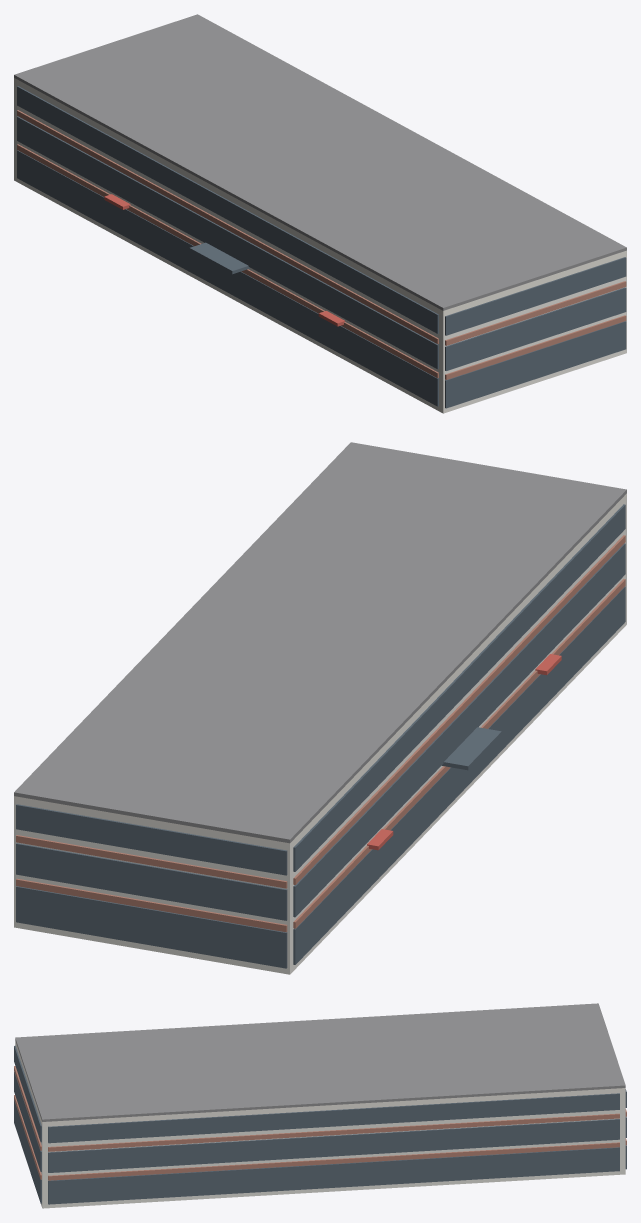
Rendered from s41_gis_248126_820567_detail.glb.
The picture shows the model from 3 angles, top to bottom: view 1: azimuth 30°, elevation 25°; view 2: azimuth 150°, elevation 25°; view 3: azimuth 270°, elevation 25°; orthographic projection. The views are drawn at different scales.
Parts seen in each view (by area): view 1: roofcap, band_1_1.5, band_1_4.3, mass, band_1_6.9, band_0_1.5, band_0_4.3, cornice, band_0_6.9, band_1_5.55, band_1_2.85, band_0_2.85 (+2 smaller); view 2: roofcap, mass, band_1_1.5, band_1_4.3, band_2_1.5, band_1_6.9, band_2_4.3, band_2_6.9, cornice, band_1_5.55, band_1_2.85, band_2_2.85 (+2 smaller); view 3: roofcap, band_3_1.5, band_3_4.3, band_3_6.9, mass, cornice, band_3_2.85, band_3_5.55, band_0_1.5, band_0_4.3, band_0_6.9.
Boxes of the visible parts, x1,y1,x2,y2 form: roofcap: (14, 14, 626, 310); band_1_1.5: (17, 150, 438, 406); band_1_4.3: (17, 116, 438, 369); mass: (14, 79, 626, 413); band_1_6.9: (17, 86, 438, 333); band_0_1.5: (445, 321, 626, 408); band_0_4.3: (445, 287, 626, 370); cornice: (14, 78, 626, 316); band_0_6.9: (445, 257, 626, 335); band_1_5.55: (17, 110, 438, 343); band_1_2.85: (17, 144, 438, 378); band_0_2.85: (445, 315, 626, 379); roofcap: (14, 442, 626, 843); mass: (14, 495, 626, 974); band_1_1.5: (293, 586, 625, 964); band_1_4.3: (293, 543, 625, 917); band_2_1.5: (16, 886, 287, 968); band_1_6.9: (293, 504, 625, 871); band_2_4.3: (16, 843, 287, 920); band_2_6.9: (16, 804, 287, 875); cornice: (14, 493, 626, 850); band_1_5.55: (293, 535, 625, 884); band_1_2.85: (293, 579, 625, 928); band_2_2.85: (16, 878, 287, 932); roofcap: (15, 1003, 625, 1121); band_3_1.5: (48, 1147, 619, 1204); band_3_4.3: (48, 1119, 619, 1172); band_3_6.9: (48, 1093, 619, 1143); mass: (15, 1043, 625, 1208); cornice: (15, 1041, 625, 1126); band_3_2.85: (48, 1142, 619, 1180); band_3_5.55: (48, 1113, 619, 1151); band_0_1.5: (14, 1100, 41, 1203); band_0_4.3: (14, 1071, 41, 1171); band_0_6.9: (14, 1045, 41, 1142).
Bounding box in the file's own units: 23.51 × 8.35 × 52.13.
